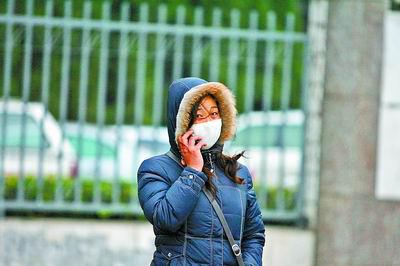OK: (189, 105, 223, 148)
